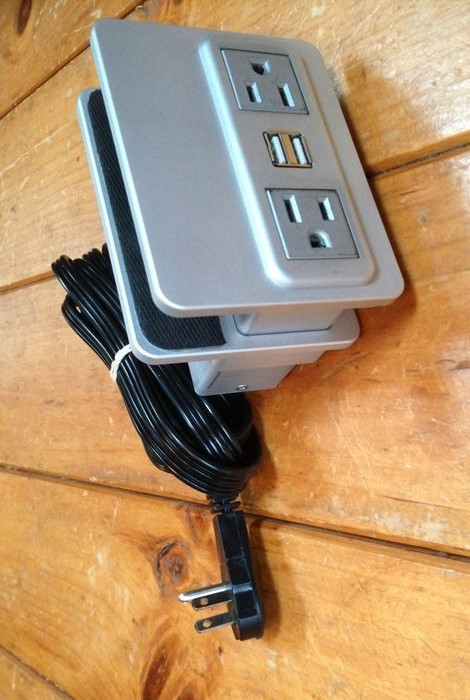outlet: (275, 187, 343, 255), (234, 54, 304, 113)
